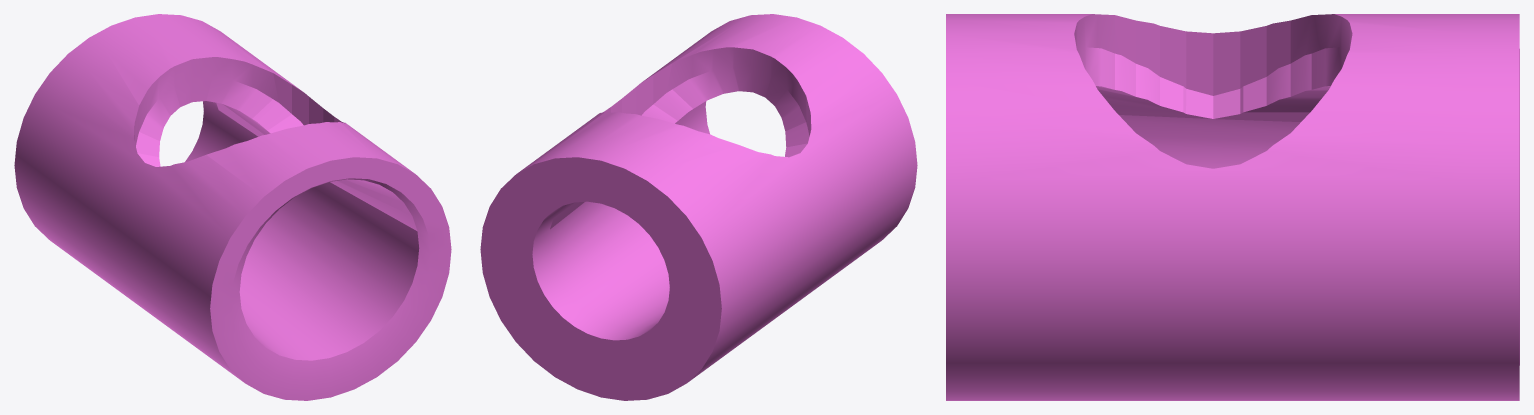
Rendered from yatayboru.fbx.
3 views of the same model, side by side, from view 1: azimuth 30°, elevation 25°; view 2: azimuth 150°, elevation 25°; view 3: azimuth 270°, elevation 25° (orthographic). The views are drawn at different scales.
Visible parts, largest first — view 1: yatayboru; view 2: yatayboru; view 3: yatayboru.
Part boxes in pixels (x1,y1,x2,y2): yatayboru: (14, 14, 451, 400); yatayboru: (480, 14, 917, 400); yatayboru: (946, 14, 1519, 400).
Bounding box in the file's own units: 178 × 167 × 250.
